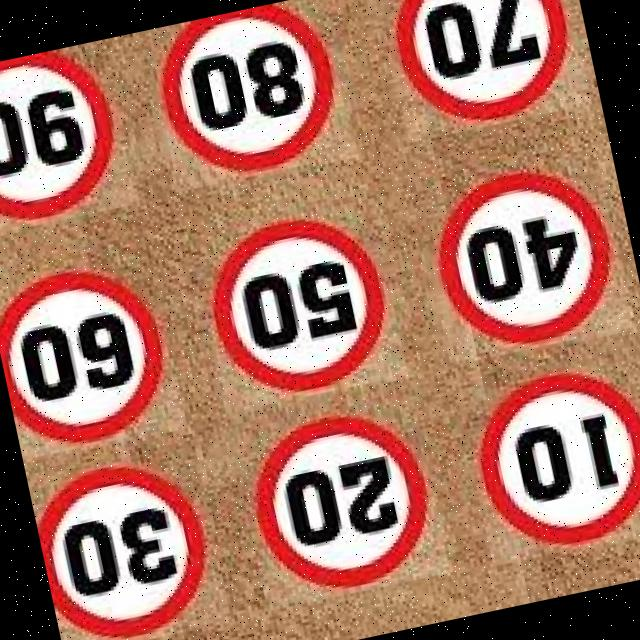speed_limit_20: (237, 400, 451, 608)
speed_limit_30: (26, 439, 233, 640)
speed_limit_50: (178, 186, 408, 414)
speed_limit_60: (0, 254, 187, 459)
speed_limit_70: (375, 0, 592, 142)
speed_limit_80: (144, 0, 364, 194)
